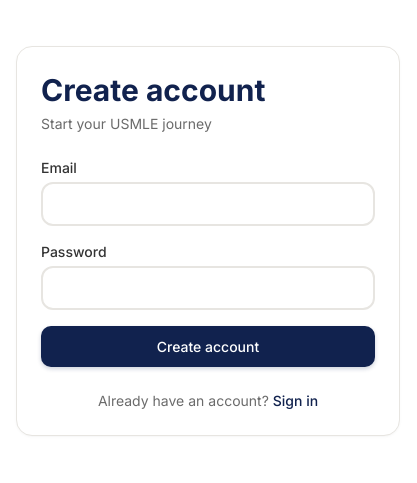
Test: SignupPage › shows error message and no confirmation message on failure
Type "jim@example.com" into the field at point(208, 204), box 41,182 -> 375,226
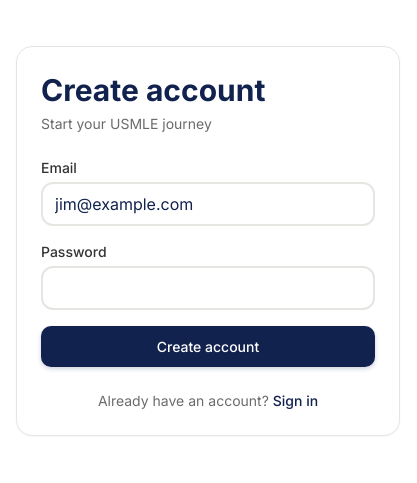
Type "secret123" into the password field at point(208, 288), box 41,266 -> 375,310
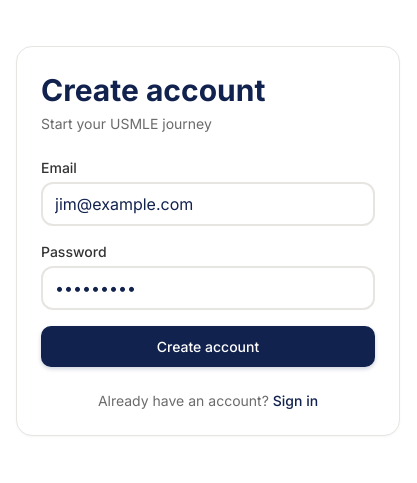
Click the button "Create account" at point(208, 347), box 41,326 -> 375,368
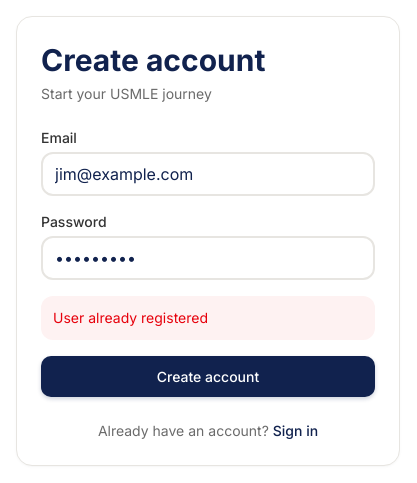
Check: the text "User already registered" is shown, box 41,296 -> 375,340
